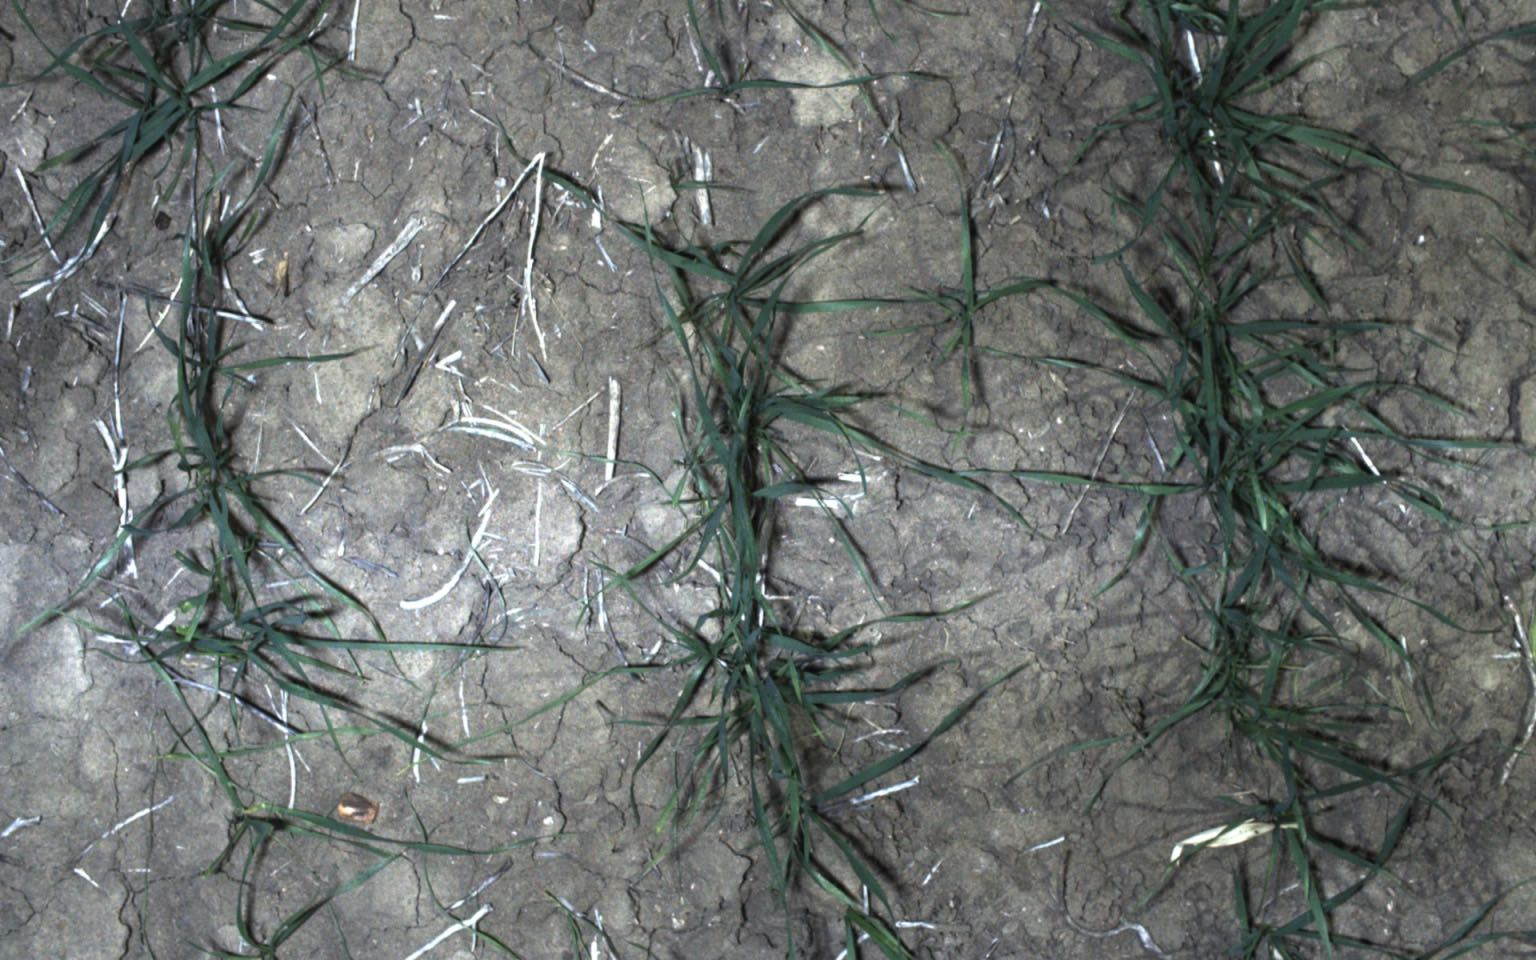weed: ryegrass: (146, 747, 173, 791)
